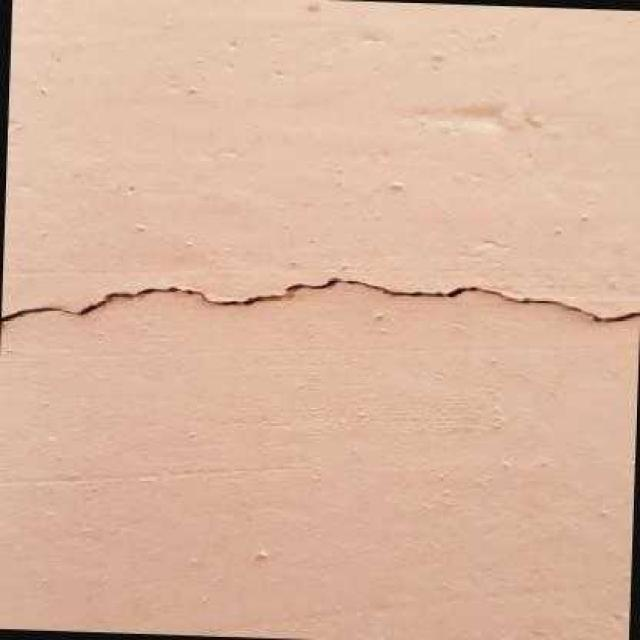D00: (0, 277, 640, 329)
